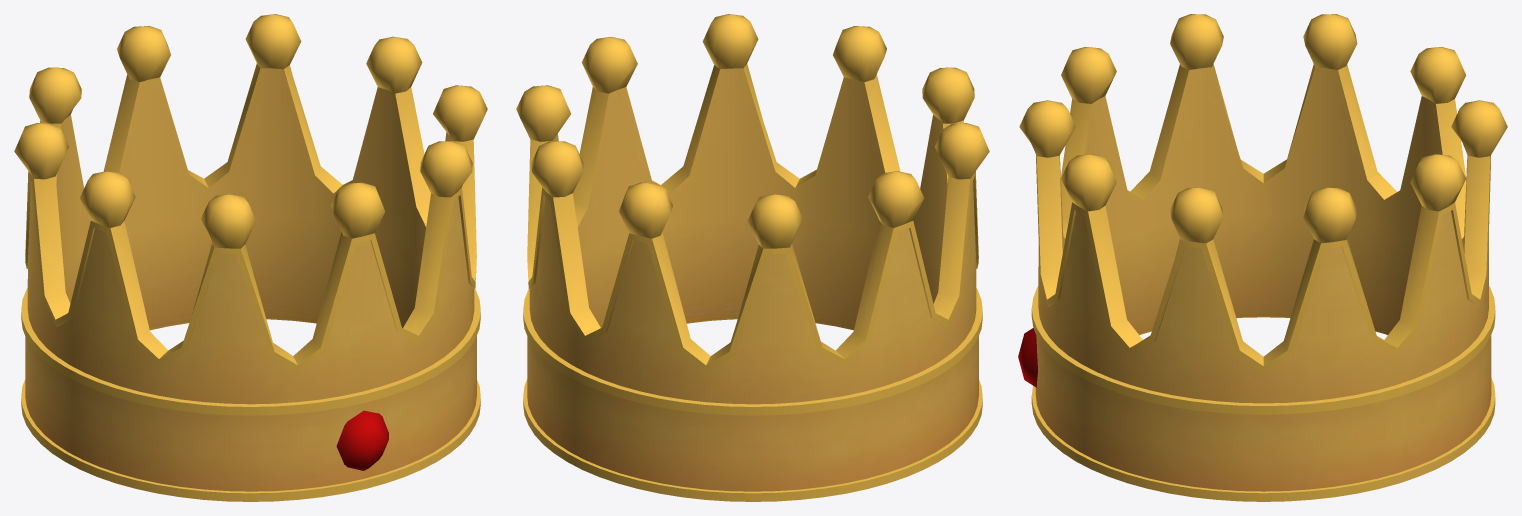
File: king-crown.glb
The picture shows the model from 3 angles, left to right: view 1: azimuth 30°, elevation 25°; view 2: azimuth 150°, elevation 25°; view 3: azimuth 270°, elevation 25°; orthographic projection.
Size of the model in its own units: 0.9486 by 0.682 by 1.
1 material, 1 textured.
